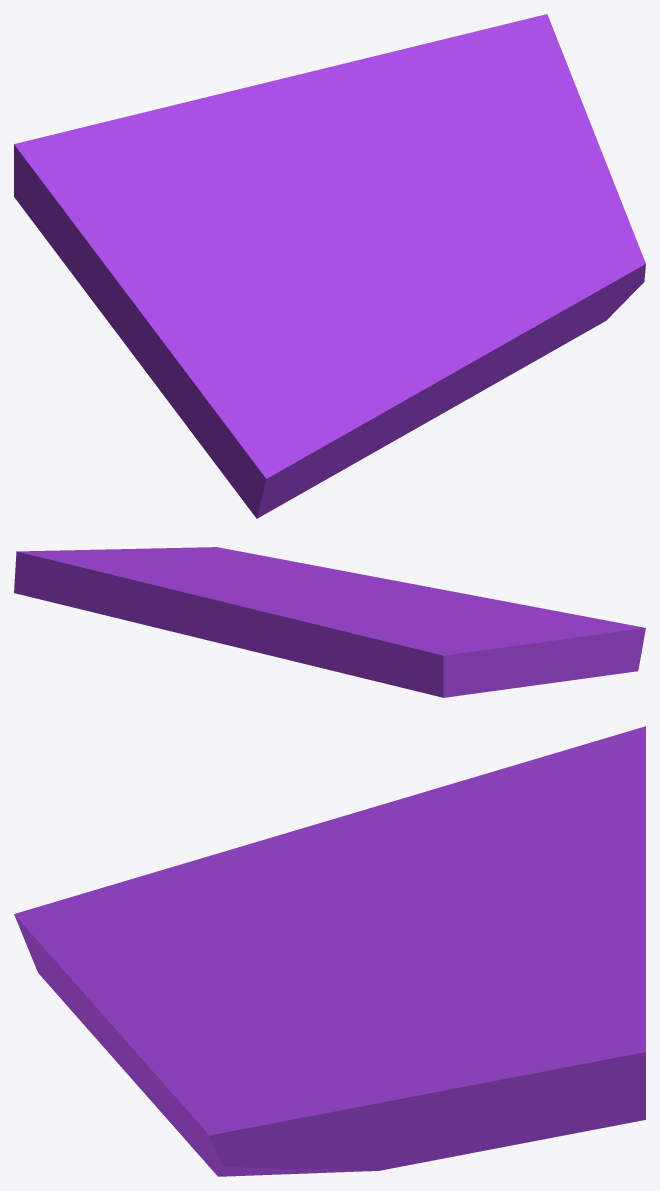
File: Window_134_1_chunks.fbx
The picture shows the model from 3 angles, top to bottom: view 1: azimuth 30°, elevation 25°; view 2: azimuth 150°, elevation 25°; view 3: azimuth 270°, elevation 25°; orthographic projection. The views are drawn at different scales.
Parts seen in each view (by area): view 1: Window_134_1_6, Window_134_1_1, Window_134_1_3, Window_134_1_4, Window_134_1_11, Window_134_1_5, Window_134_1_13, Window_134_1_7, Window_134_1_8, Window_134_1_2, Window_134_1_0, Window_134_1_27 (+11 smaller); view 2: Window_134_1_6, Window_134_1_22, Window_134_1_4, Window_134_1_1, Window_134_1_8, Window_134_1_30, Window_134_1_7, Window_134_1_3, Window_134_1_5, Window_134_1_21, Window_134_1_11, Window_134_1_32 (+11 smaller); view 3: Window_134_1_6, Window_134_1_5, Window_134_1_4, Window_134_1_1, Window_134_1_3, Window_134_1_11, Window_134_1_13, Window_134_1_18, Window_134_1_2, Window_134_1_0, Window_134_1_27, Window_134_1_7 (+13 smaller).
Boxes of the visible parts, box(x1,y1,x2,y2) form: Window_134_1_6: box(14, 89, 271, 292); Window_134_1_1: box(88, 234, 361, 329); Window_134_1_3: box(446, 191, 644, 360); Window_134_1_4: box(438, 14, 568, 201); Window_134_1_11: box(260, 359, 409, 486); Window_134_1_5: box(520, 68, 645, 280); Window_134_1_13: box(375, 305, 543, 410); Window_134_1_7: box(115, 299, 255, 404); Window_134_1_8: box(161, 385, 312, 518); Window_134_1_2: box(339, 241, 541, 374); Window_134_1_0: box(299, 171, 462, 260); Window_134_1_27: box(377, 47, 485, 189); Window_134_1_6: box(260, 611, 507, 697); Window_134_1_22: box(124, 594, 284, 658); Window_134_1_4: box(14, 550, 262, 605); Window_134_1_1: box(363, 600, 543, 683); Window_134_1_8: box(556, 621, 644, 681); Window_134_1_30: box(60, 562, 198, 605); Window_134_1_7: box(498, 623, 600, 683); Window_134_1_3: box(212, 548, 331, 580); Window_134_1_5: box(60, 547, 223, 565); Window_134_1_21: box(62, 584, 136, 622); Window_134_1_11: box(472, 598, 645, 634); Window_134_1_32: box(196, 591, 280, 616); Window_134_1_6: box(421, 726, 645, 892); Window_134_1_5: box(206, 1050, 551, 1171); Window_134_1_4: box(374, 996, 645, 1120); Window_134_1_1: box(236, 785, 446, 958); Window_134_1_3: box(157, 1004, 385, 1176); Window_134_1_11: box(14, 909, 191, 1049); Window_134_1_13: box(86, 973, 220, 1099); Window_134_1_18: box(372, 1097, 642, 1170); Window_134_1_2: box(164, 939, 364, 1134); Window_134_1_0: box(285, 914, 437, 1019); Window_134_1_27: box(424, 954, 616, 1015); Window_134_1_7: box(154, 819, 332, 899).
Size of the model in its own units: 1068 by 375 by 870.
